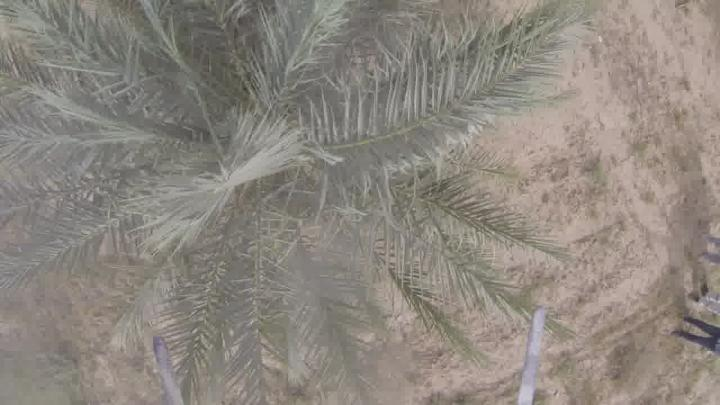Date-Palm-Crown: (30, 7, 444, 365)
